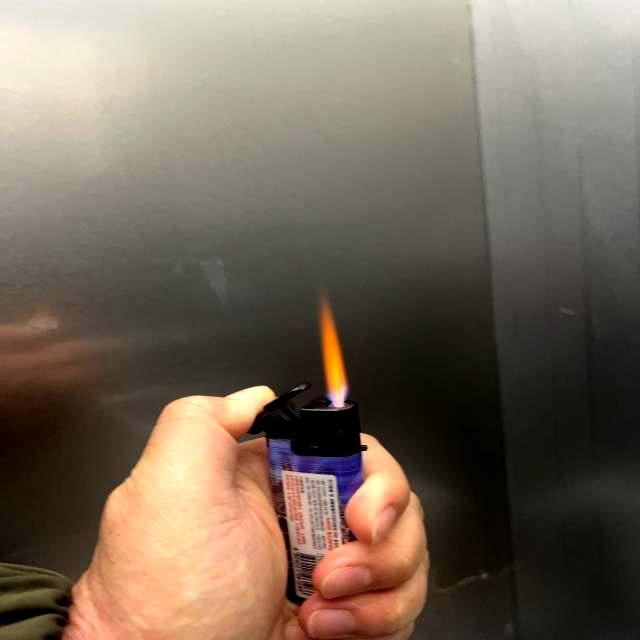fire: (320, 298, 348, 402)
